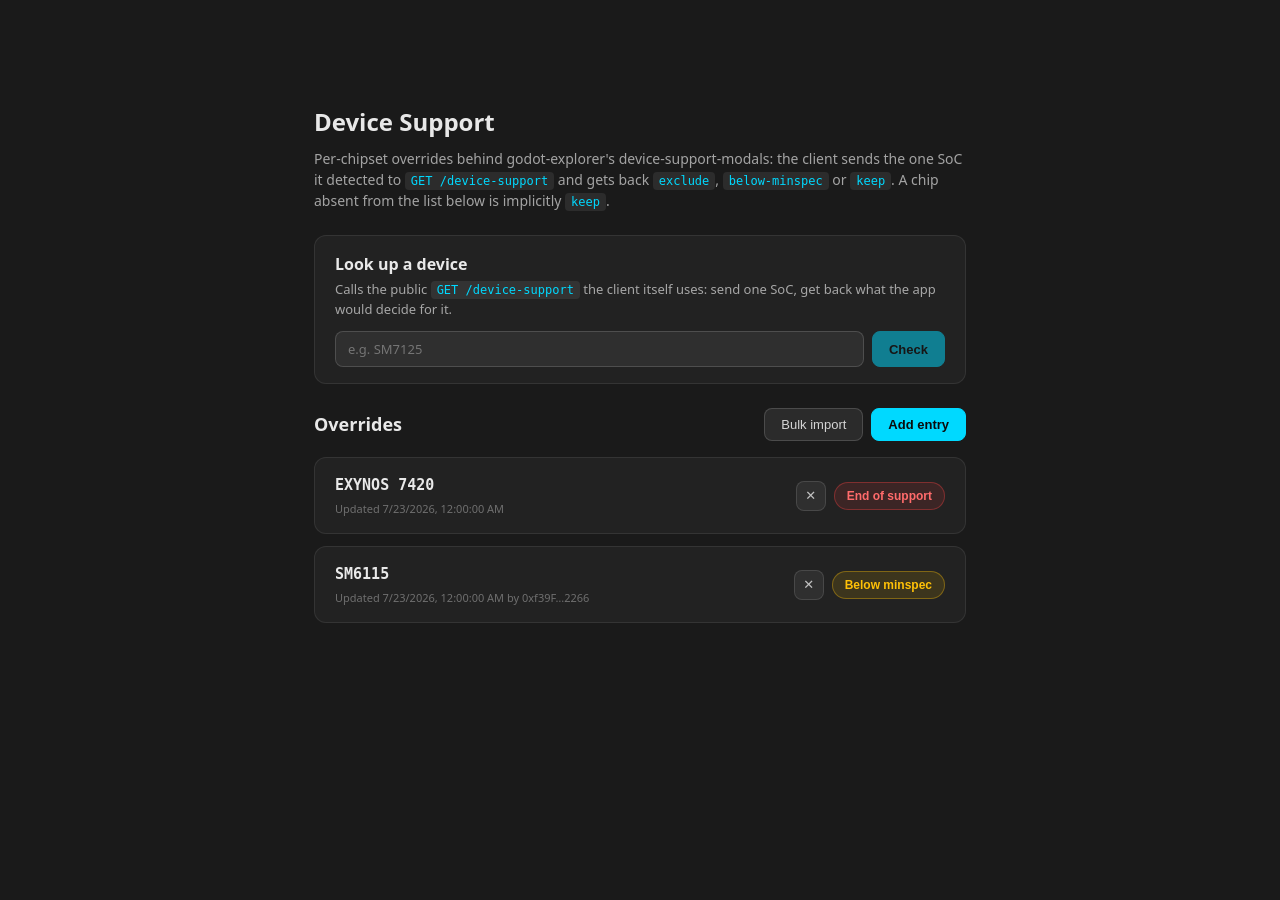
Scenario: DeviceSupportPage › opens a confirm dialog when changing a decision and does nothing on cancel
The image size is (1280, 900).
Step 1. Click the button with aria-label "Change decision for EXYNOS 7420" → coordinates (889, 496), box [834,482,945,510]
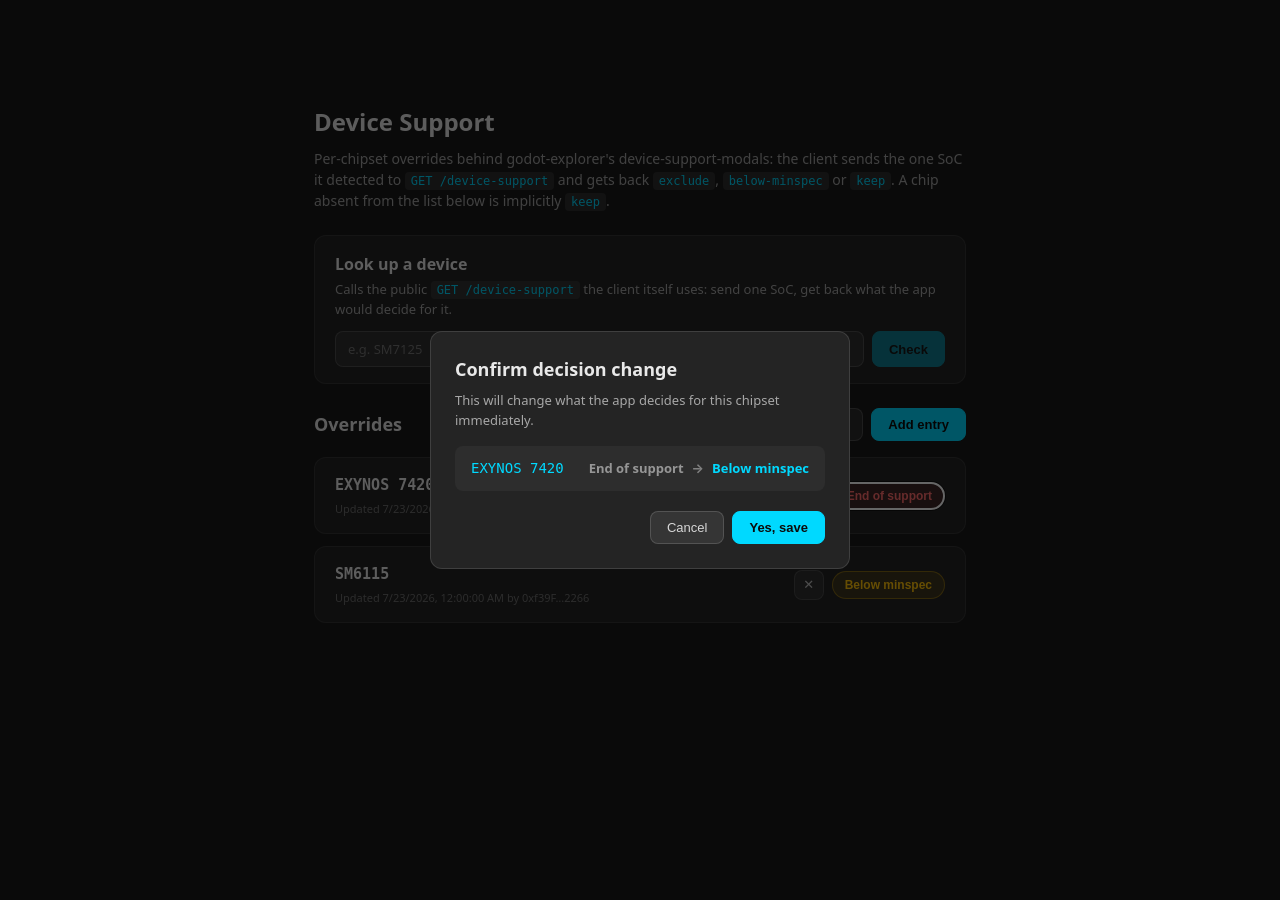
Expected: the dialog shows "EXYNOS 7420", [471,460,564,476]
Expected: the dialog shows "End of support", [589,459,684,477]
Expected: the dialog shows "Below minspec", [712,459,809,477]
Step 2. Click the button "Cancel" → coordinates (687, 528), box [650,511,724,544]
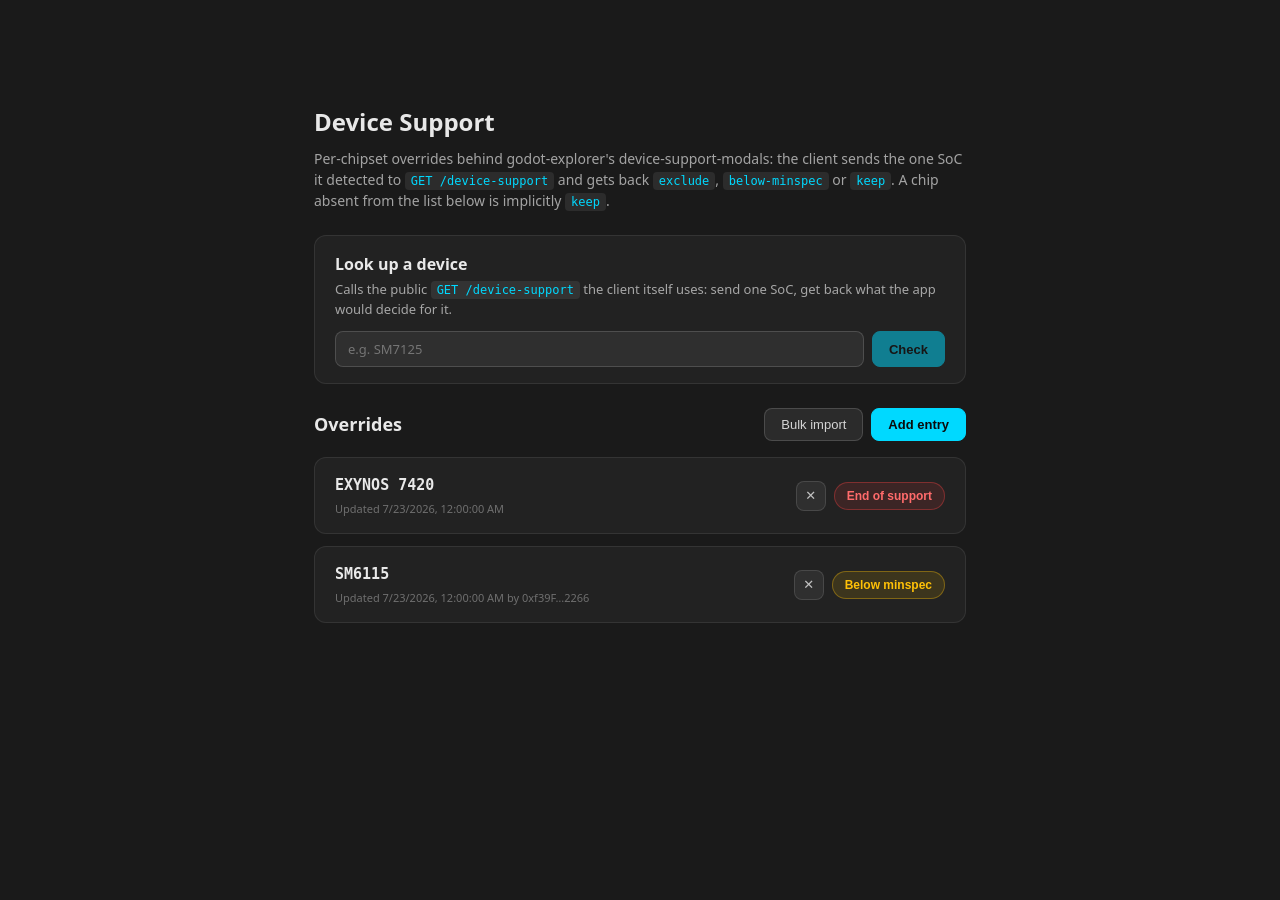
Expected: the dialog is gone
